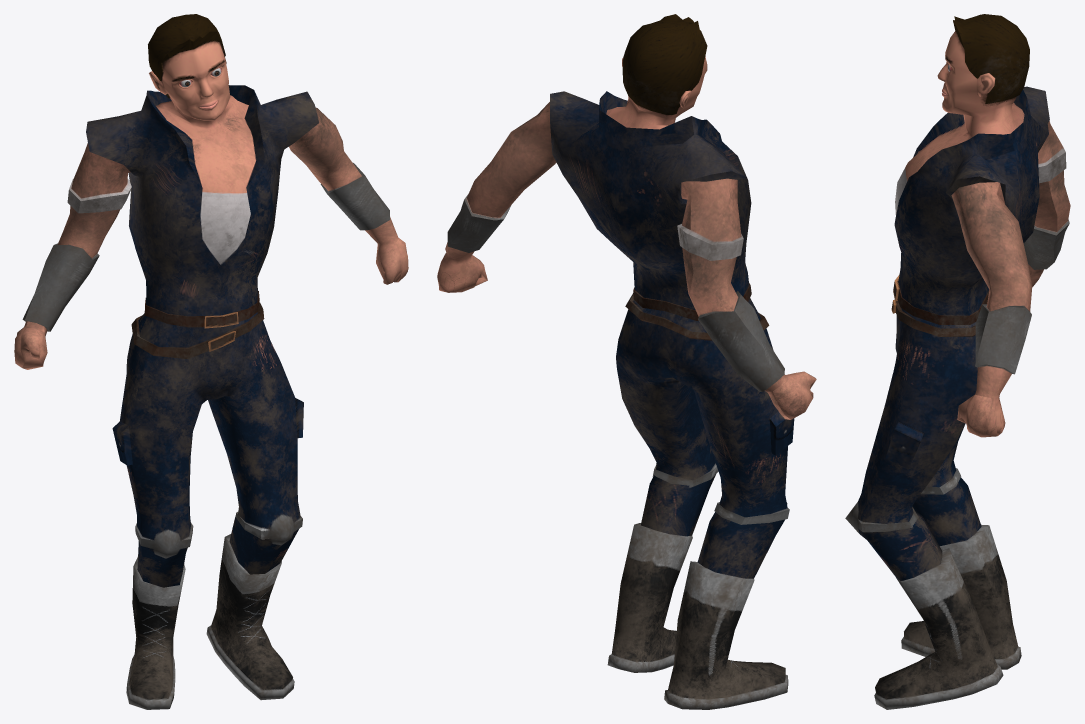
The model's file is Anim_recibirdanyo_jugador.0022.obj.
3 views of the same model, side by side, from view 1: azimuth 30°, elevation 25°; view 2: azimuth 150°, elevation 25°; view 3: azimuth 270°, elevation 25° (orthographic). The views are drawn at different scales.
Visible parts, largest first — view 1: polySurface1; view 2: polySurface1; view 3: polySurface1.
Boxes of the visible parts, x1,y1,x2,y2 form: polySurface1: (14,14,408,709); polySurface1: (437,14,816,709); polySurface1: (845,14,1070,709).
Size of the model in its own units: 5.63 by 9.34 by 2.87.
